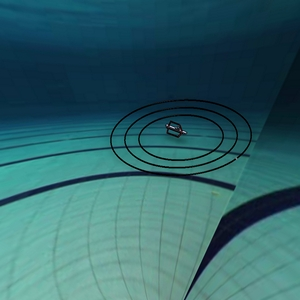circle: (106, 96, 257, 183)
submarine: (160, 115, 190, 146)
